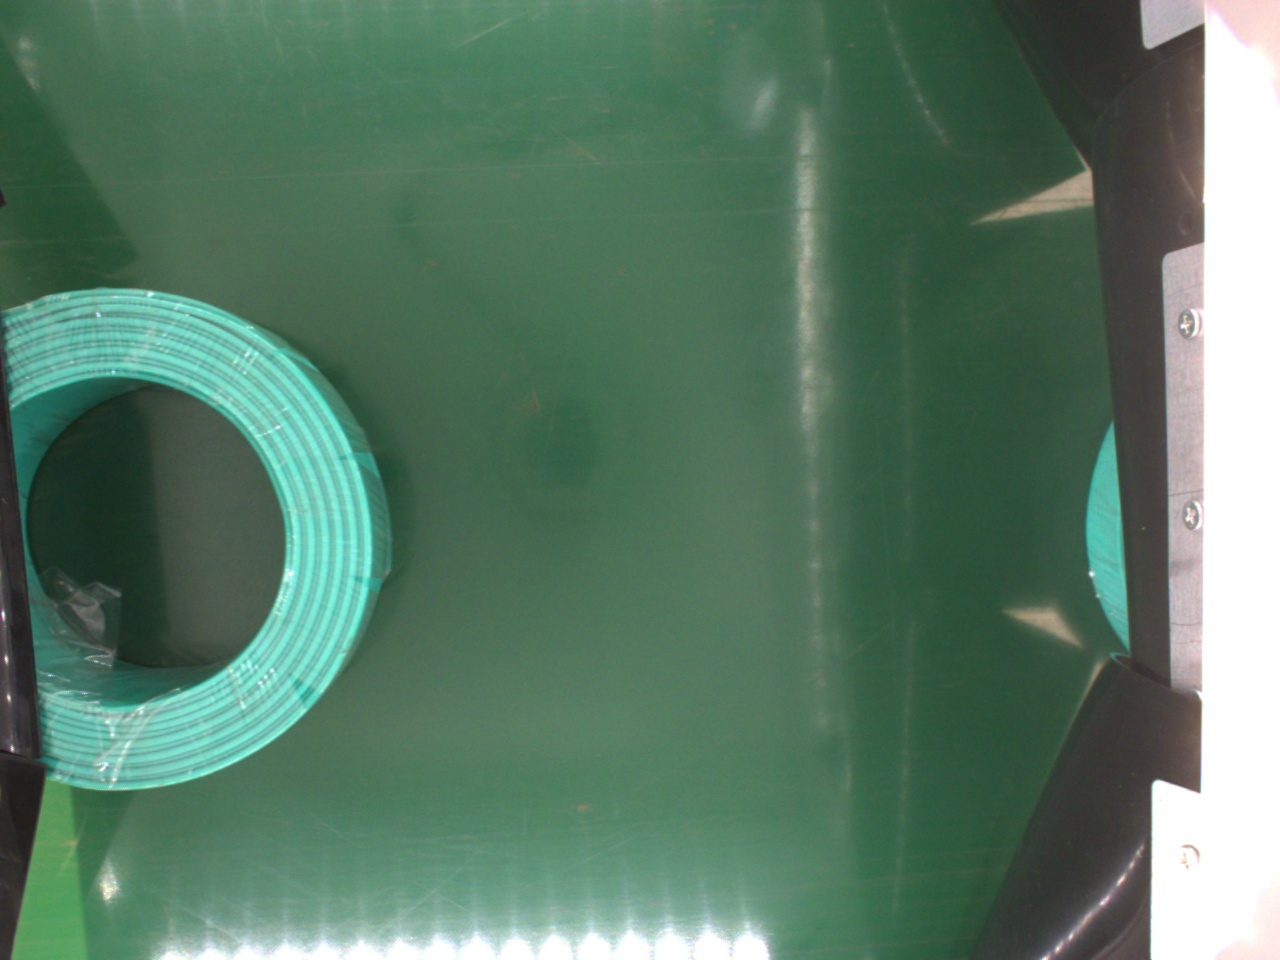green: (4, 287, 390, 805)
